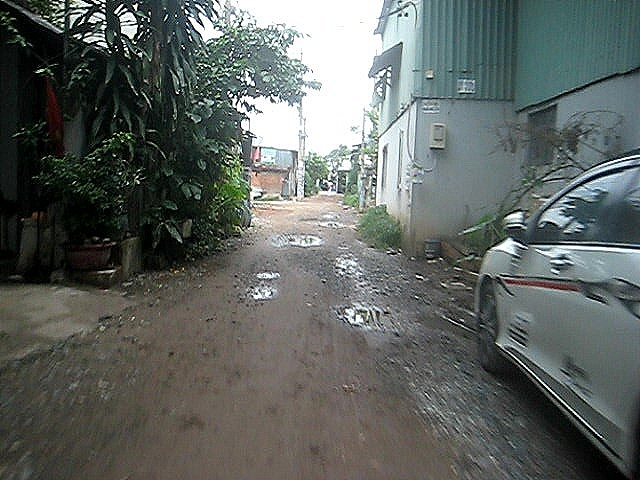hole: (330, 300, 421, 332), (331, 251, 389, 297), (265, 231, 329, 249), (236, 283, 281, 304), (301, 219, 352, 229), (251, 267, 283, 280), (317, 210, 341, 218)
